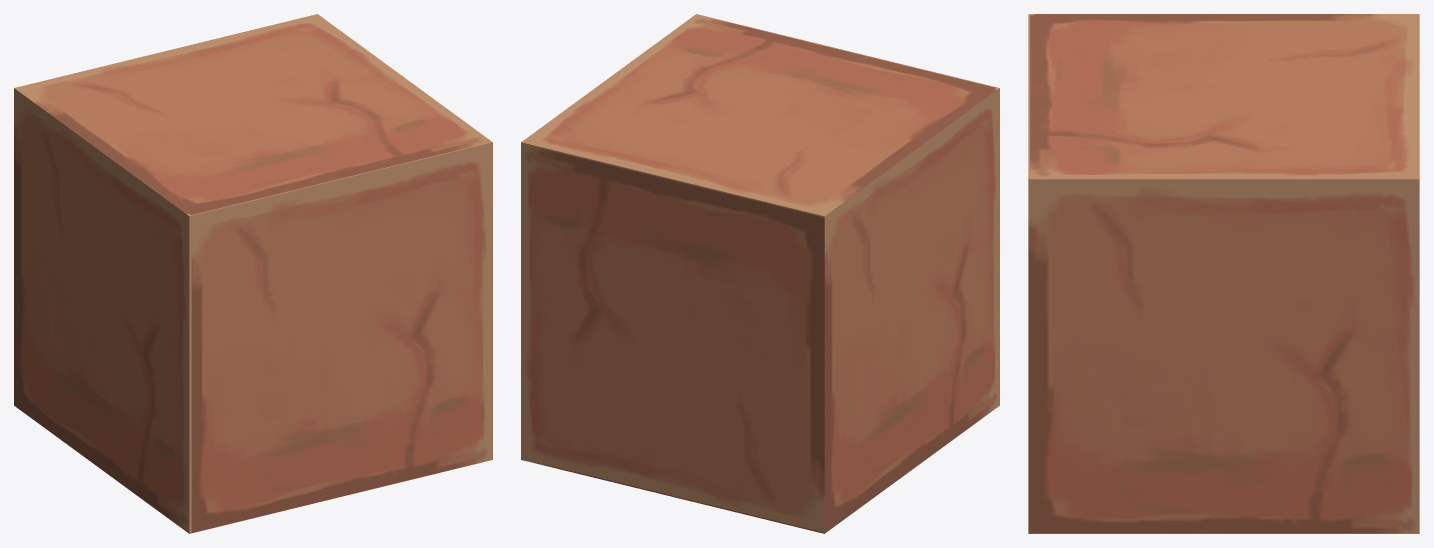
3 renders of one model, left to right at view 1: azimuth 30°, elevation 25°; view 2: azimuth 150°, elevation 25°; view 3: azimuth 270°, elevation 25°, orthographic. The views are drawn at different scales.
Visible parts, largest first — view 1: pasted__pCube1; view 2: pasted__pCube1; view 3: pasted__pCube1.
Boxes of the visible parts, x1,y1,x2,y2 form: pasted__pCube1: (14, 14, 492, 533); pasted__pCube1: (521, 14, 999, 533); pasted__pCube1: (1028, 14, 1419, 533).
Size of the model in its own units: 1 by 1 by 1.
1 material, 1 textured.
